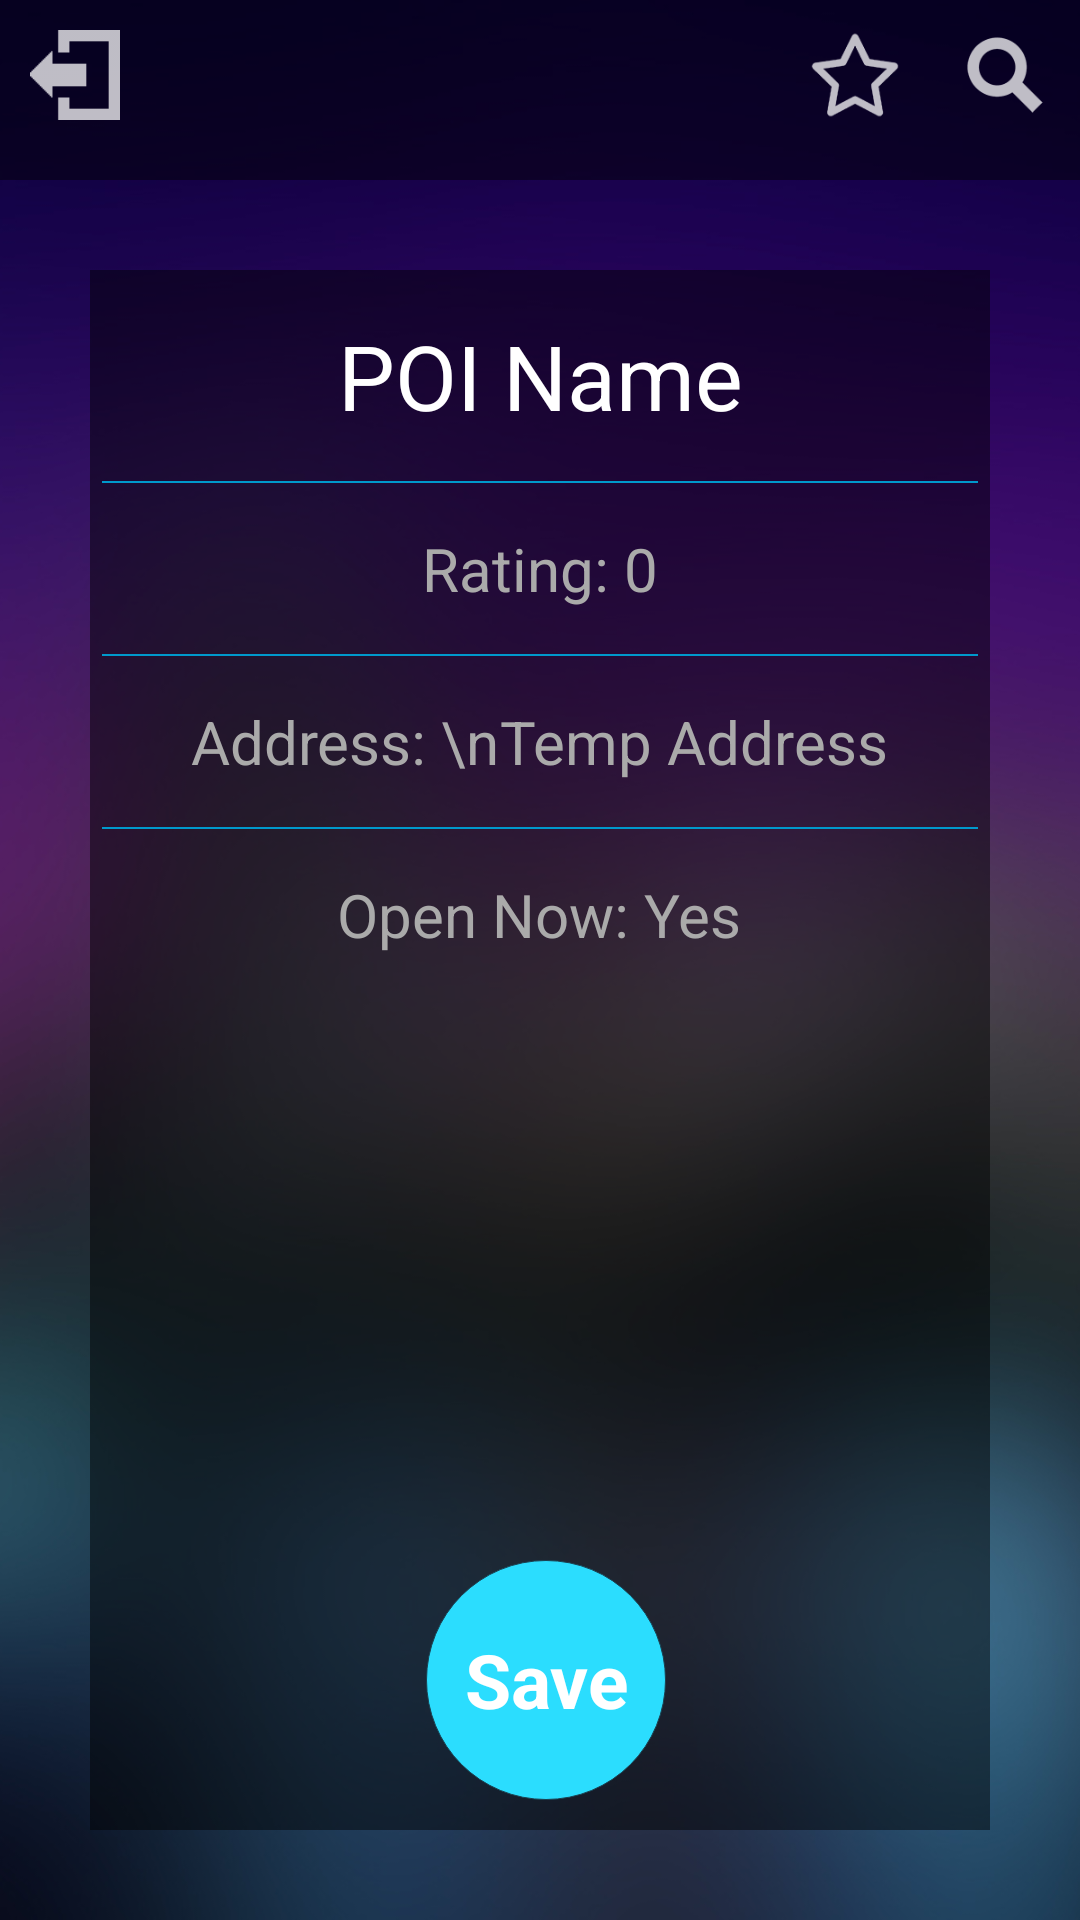

Screen size 1080*1920. Icon name, then its center in pixels as (x,y):
search glass: (1005,75)
star: (855,75)
